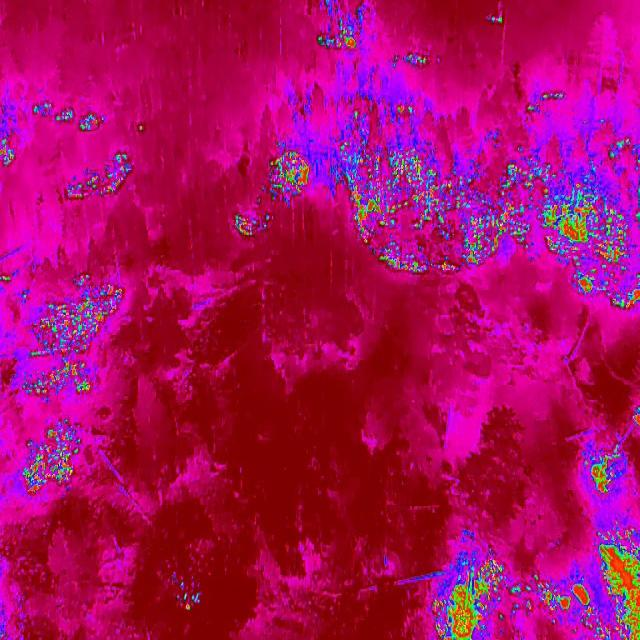fire: (323, 92, 638, 298), (19, 270, 126, 401), (428, 554, 508, 640), (58, 143, 138, 213), (19, 420, 88, 501), (599, 526, 640, 640), (510, 572, 602, 622), (264, 140, 313, 210), (27, 95, 109, 135), (313, 0, 372, 52), (590, 452, 626, 496), (0, 103, 19, 173), (232, 206, 272, 239), (523, 85, 569, 113), (388, 50, 438, 74), (177, 590, 201, 614), (483, 10, 504, 28), (132, 119, 148, 137), (633, 408, 640, 432)
